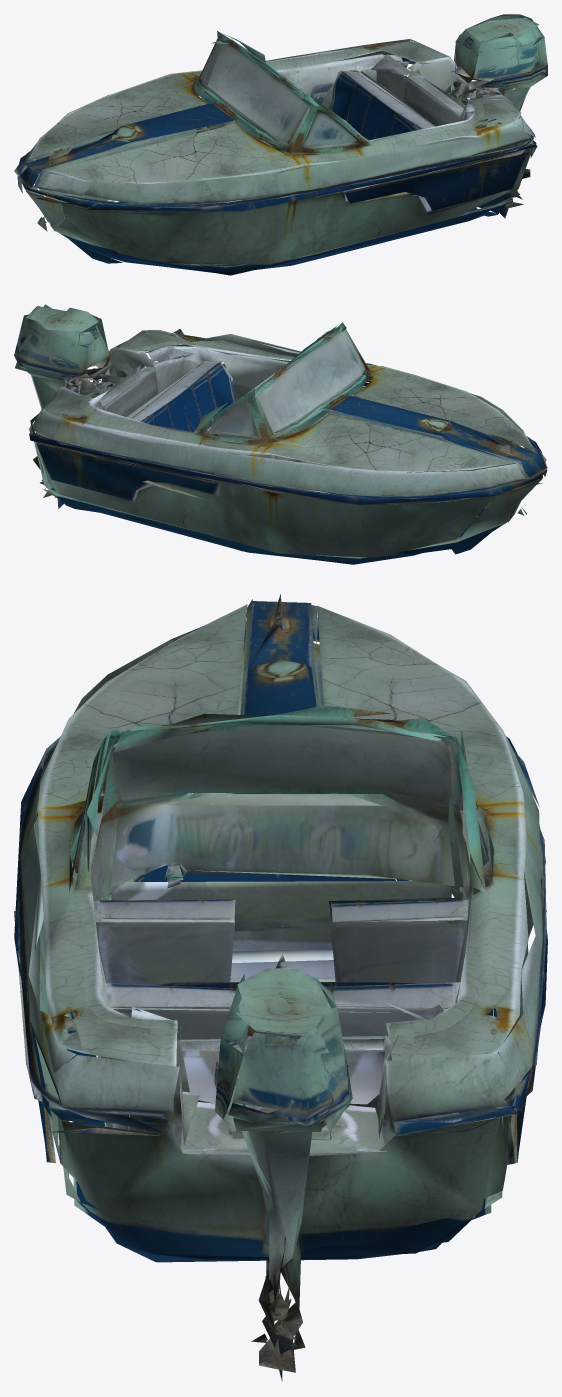
Rendered from lancha2.glb.
The picture shows the model from 3 angles, top to bottom: view 1: azimuth 30°, elevation 25°; view 2: azimuth 150°, elevation 25°; view 3: azimuth 270°, elevation 25°; orthographic projection. The views are drawn at different scales.
Parts seen in each view (by area): view 1: Mesh1.0; view 2: Mesh1.0; view 3: Mesh1.0.
Part boxes in pixels (<box>): Mesh1.0: <box>14,14,547,275</box>; Mesh1.0: <box>14,304,547,564</box>; Mesh1.0: <box>14,594,547,1381</box>.
Size of the model in its own units: 5.73 by 2.32 by 2.58.
Materials: 1 (1 with a texture image).
